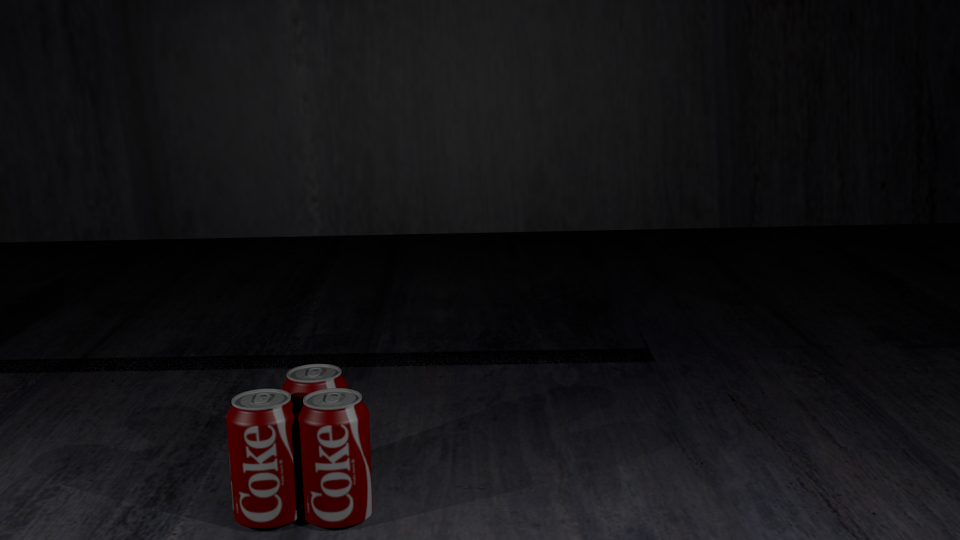cola_can: (226, 389, 300, 524), (298, 389, 370, 523), (282, 364, 347, 491)
